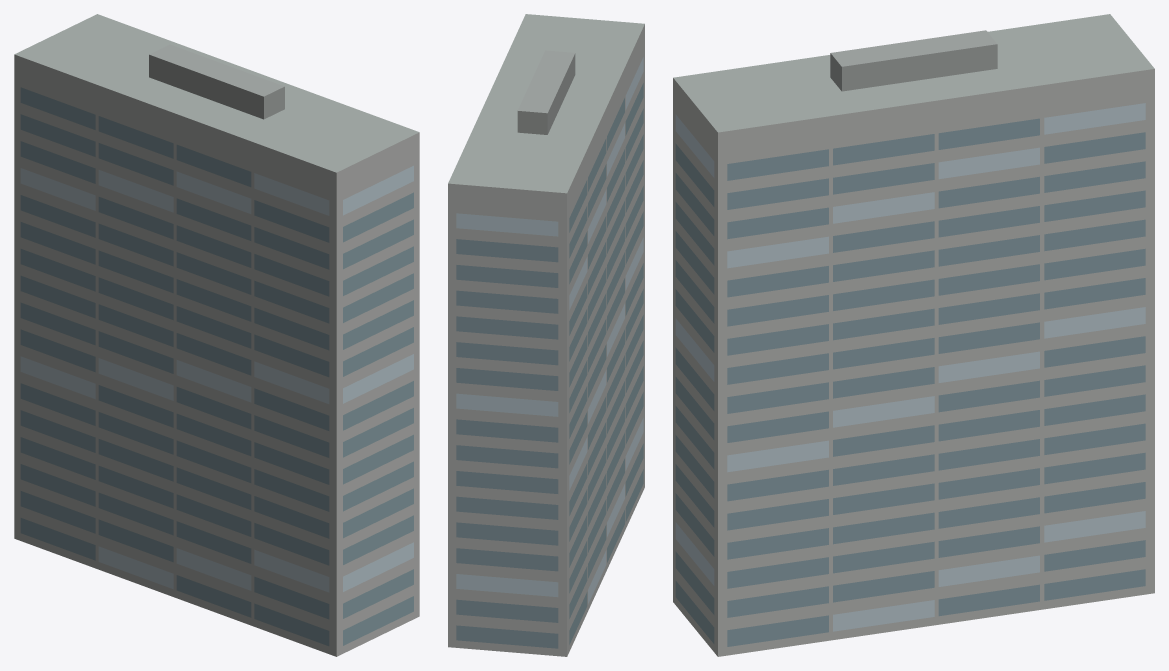
File: fallback-songpa-helio-city-309.glb
The picture shows the model from 3 angles, left to right: view 1: azimuth 30°, elevation 25°; view 2: azimuth 150°, elevation 25°; view 3: azimuth 270°, elevation 25°; orthographic projection. The views are drawn at different scales.
Visible parts, largest first — view 1: fallback-songpa-helio-city-309; view 2: fallback-songpa-helio-city-309; view 3: fallback-songpa-helio-city-309.
Part boxes in pixels (bbox=[...]): fallback-songpa-helio-city-309: bbox=[14, 14, 419, 656]; fallback-songpa-helio-city-309: bbox=[448, 14, 644, 656]; fallback-songpa-helio-city-309: bbox=[673, 14, 1154, 656].
Bounding box in the file's own units: 23.62 × 51 × 40.55.
